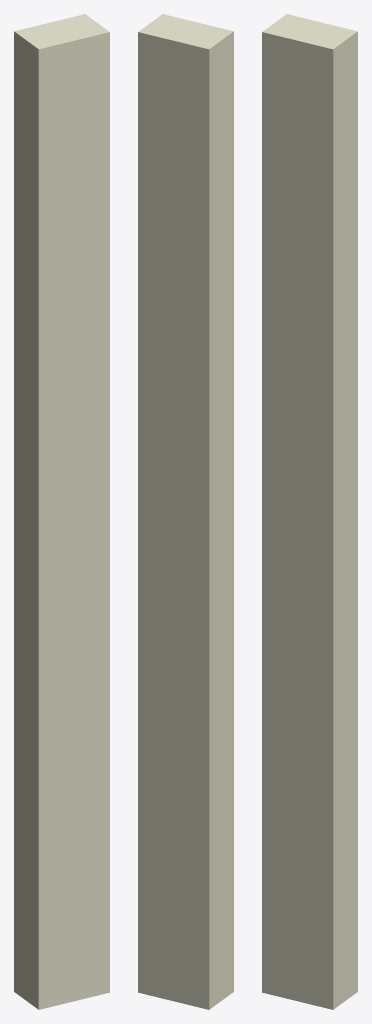
Rendered from fbx_building_2_pillar2.fbx.
The picture shows the model from 3 angles, left to right: view 1: azimuth 30°, elevation 25°; view 2: azimuth 150°, elevation 25°; view 3: azimuth 330°, elevation 25°; orthographic projection.
Visible parts, largest first — view 1: fbx_building_2_pillar2; view 2: fbx_building_2_pillar2; view 3: fbx_building_2_pillar2.
Boxes of the visible parts, x1,y1,x2,y2 form: fbx_building_2_pillar2: (14,14,109,1009); fbx_building_2_pillar2: (138,14,233,1009); fbx_building_2_pillar2: (262,14,357,1009).
Bounding box in the file's own units: 0.0827 × 1.07 × 0.0498.
1 material, 1 textured.
